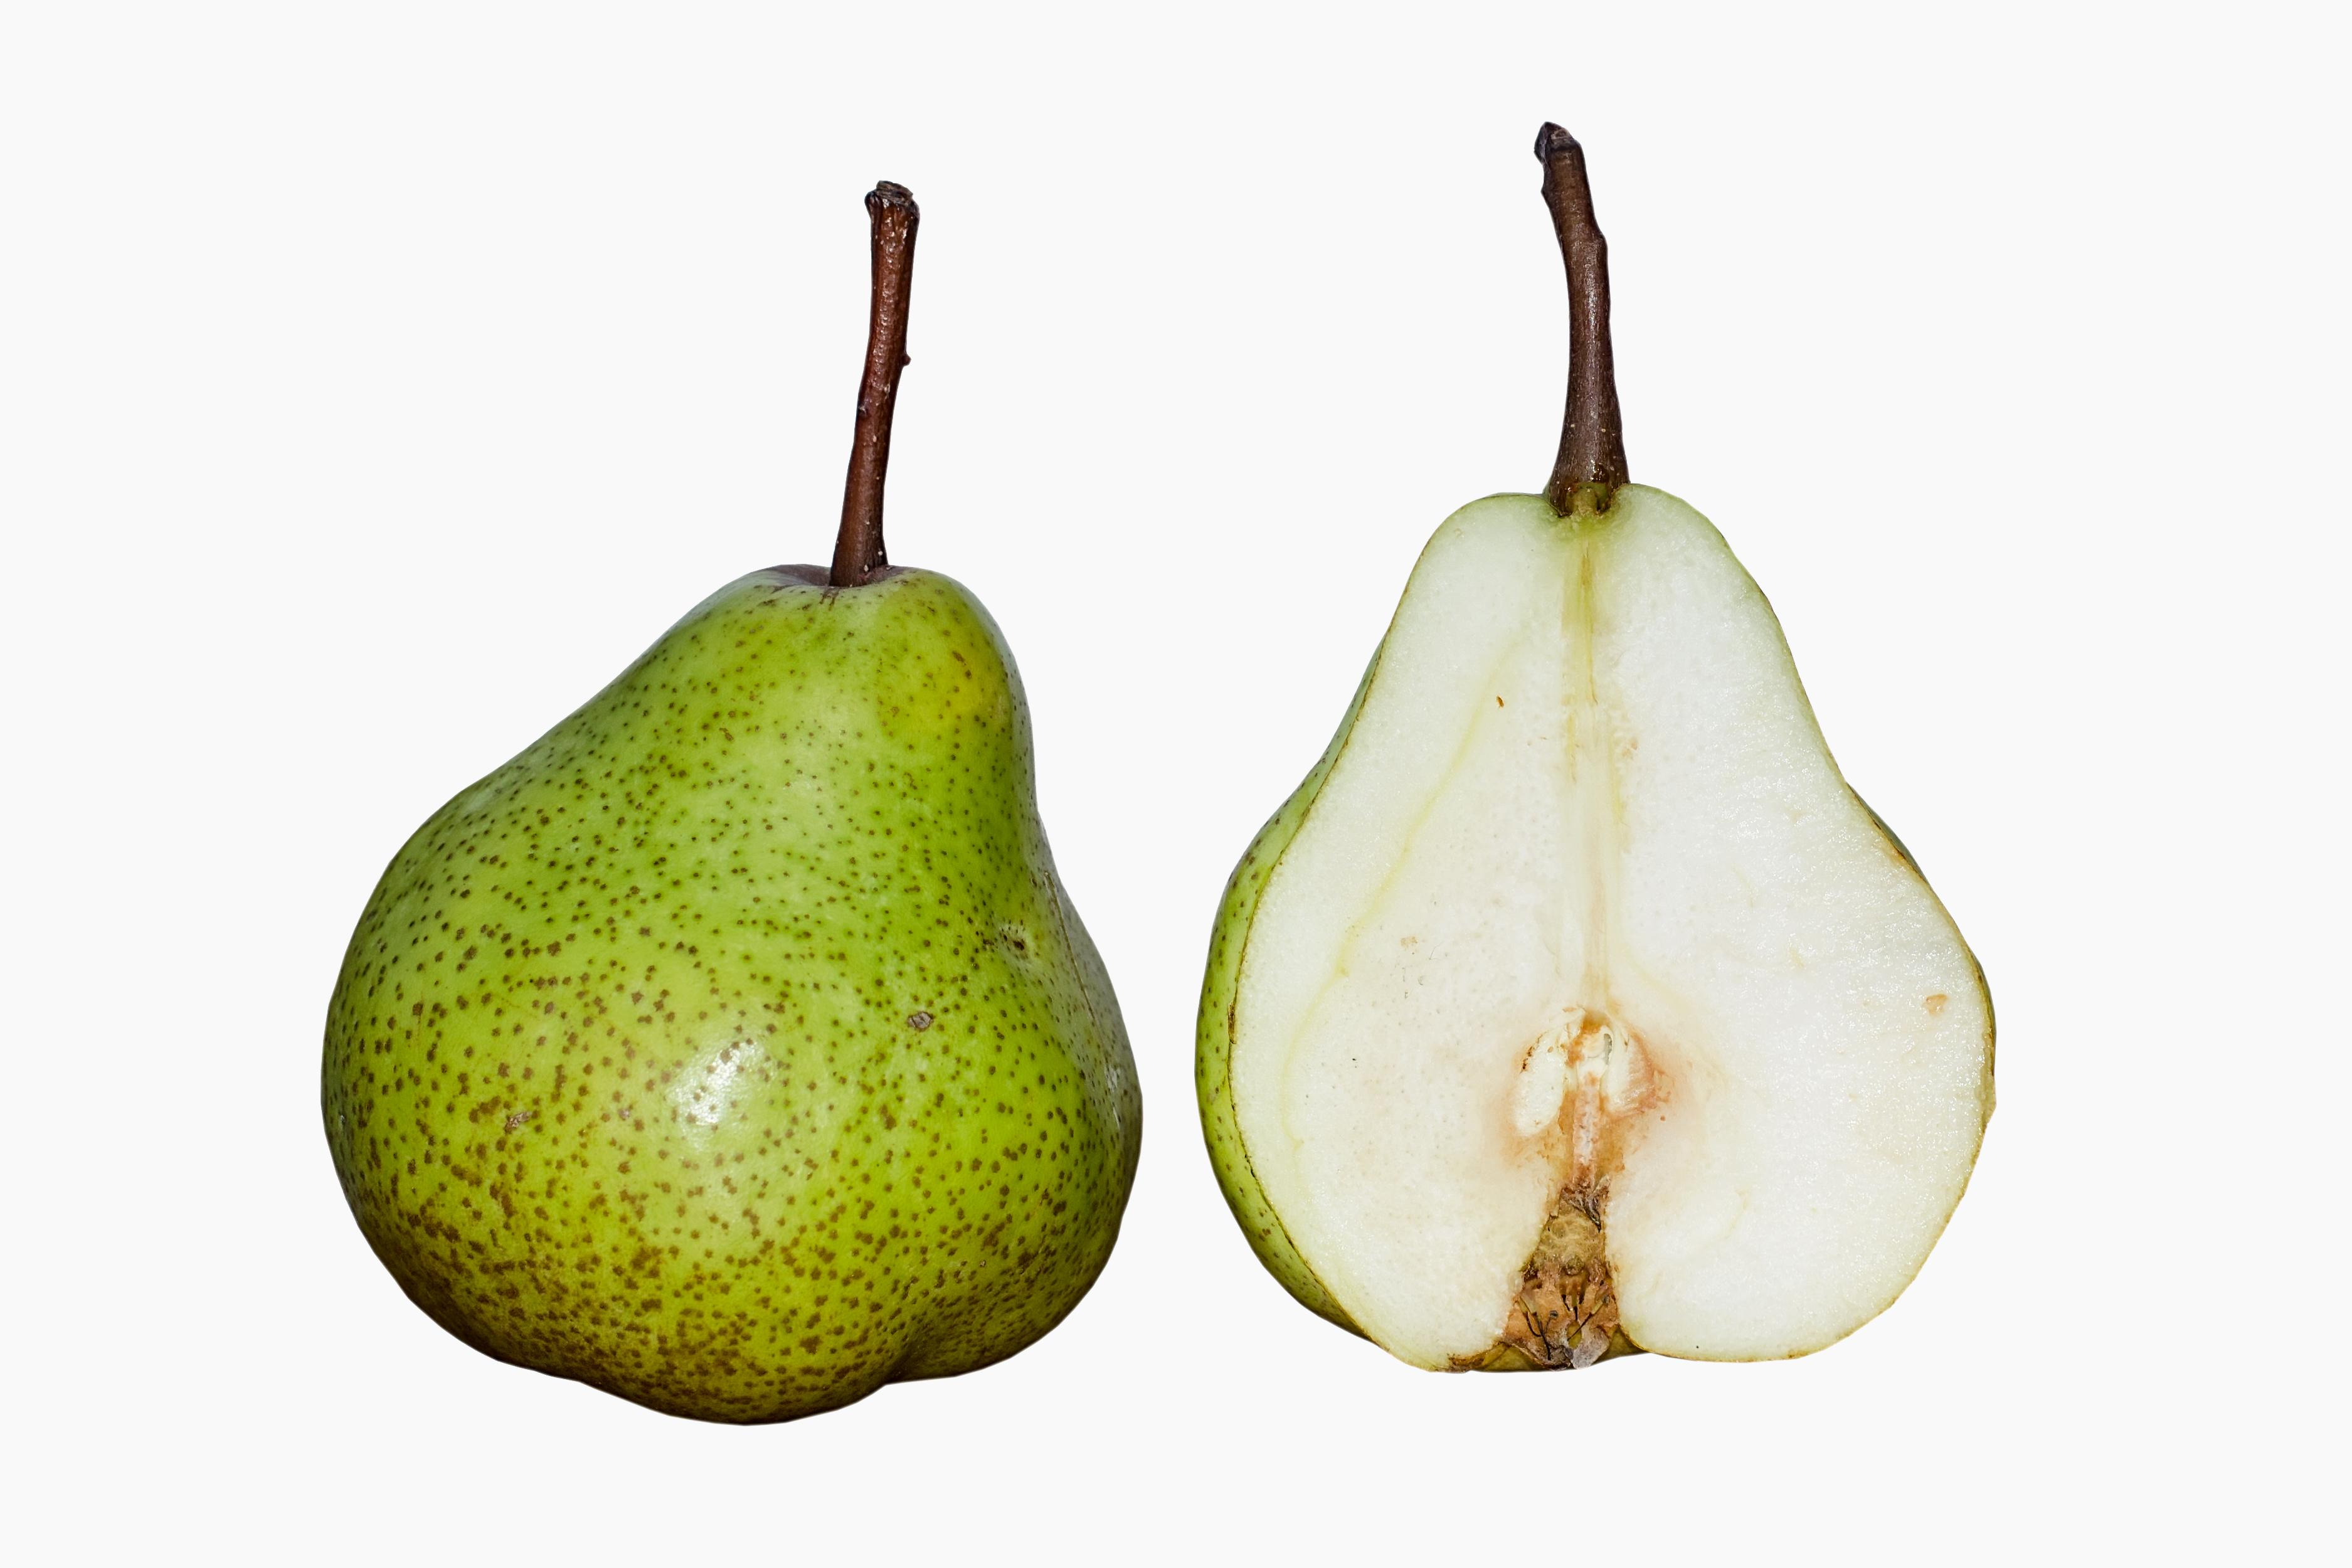pear: (318, 178, 1144, 1424), (1192, 119, 1999, 1374)
